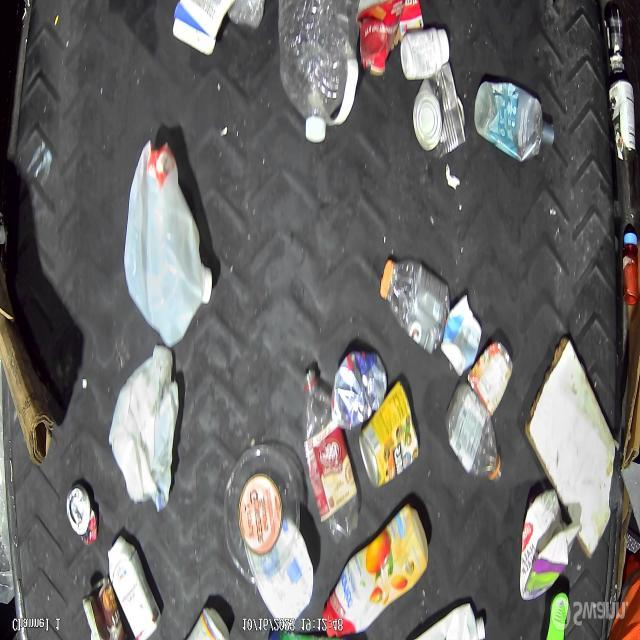can: (356, 376, 419, 492), (412, 61, 467, 161), (466, 338, 514, 419), (607, 74, 637, 166), (64, 482, 100, 546), (604, 6, 624, 74)
milk_jug: (123, 136, 215, 350), (108, 342, 180, 517)
non_white_jug: (321, 500, 431, 640)
plastic_bottle: (275, 0, 358, 144), (301, 362, 361, 544), (442, 378, 504, 489)
